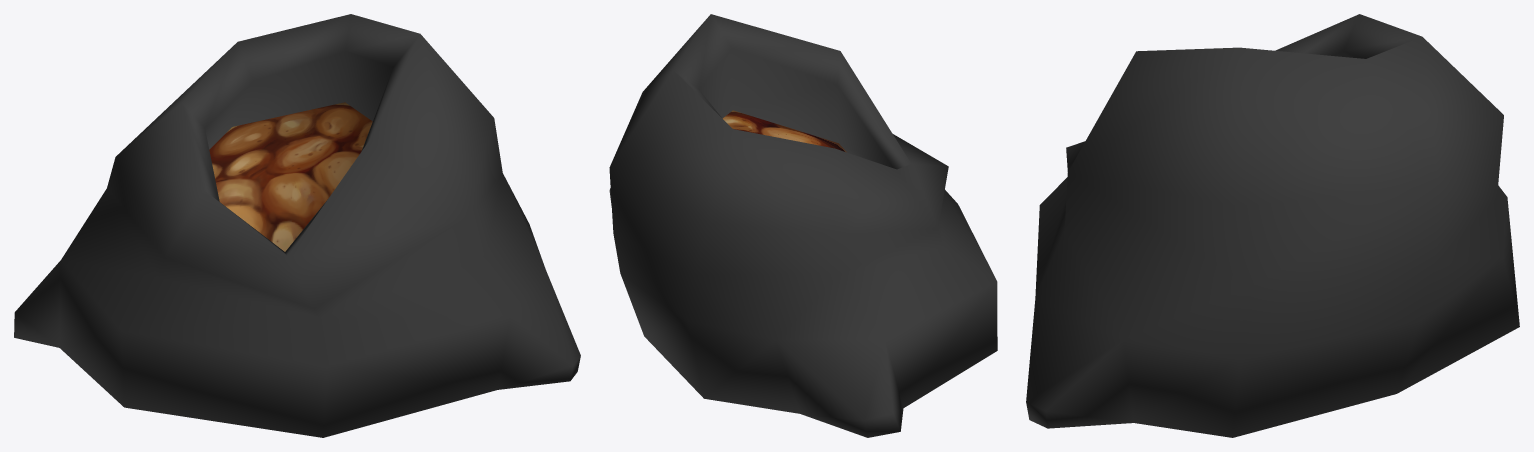
The model's file is SM_PROP_sack_01.FBX.
3 renders of one model, left to right at view 1: azimuth 30°, elevation 25°; view 2: azimuth 150°, elevation 25°; view 3: azimuth 270°, elevation 25°, orthographic. The views are drawn at different scales.
Visible parts, largest first — view 1: SM_PROP_sack_01; view 2: SM_PROP_sack_01; view 3: SM_PROP_sack_01.
Boxes of the visible parts, x1,y1,x2,y2 form: SM_PROP_sack_01: (14,14,580,437); SM_PROP_sack_01: (609,14,997,437); SM_PROP_sack_01: (1026,14,1519,437).
Bounding box in the file's own units: 70.05 × 62.72 × 49.3.
